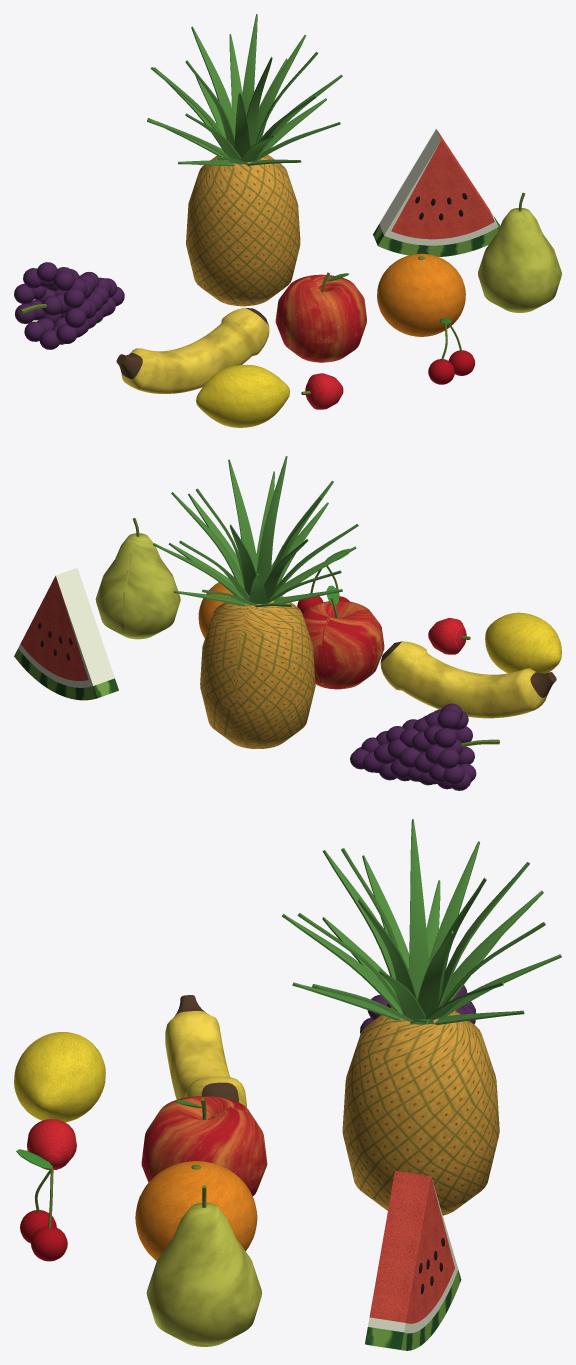
The model's file is fruit-set.glb.
The picture shows the model from 3 angles, top to bottom: view 1: azimuth 30°, elevation 25°; view 2: azimuth 150°, elevation 25°; view 3: azimuth 270°, elevation 25°; orthographic projection. The views are drawn at different scales.
Parts seen in each view (by area): view 1: Pineapple, Watermelon_Slice, Banana, Apple, Grapes, Pear, Orange, Lemon, Cherries, Strawberry; view 2: Pineapple, Watermelon_Slice, Banana, Grapes, Pear, Apple, Lemon, Strawberry, Orange, Cherries; view 3: Pineapple, Pear, Watermelon_Slice, Apple, Orange, Lemon, Banana, Cherries, Strawberry.
Boxes of the visible parts, bbox=[...] form: Pineapple: bbox=[147, 14, 342, 306]; Watermelon_Slice: bbox=[373, 129, 499, 256]; Banana: bbox=[116, 308, 269, 393]; Apple: bbox=[275, 272, 366, 362]; Grapes: bbox=[14, 262, 124, 349]; Pear: bbox=[478, 192, 561, 312]; Orange: bbox=[377, 253, 465, 336]; Lemon: bbox=[196, 364, 289, 427]; Cherries: bbox=[428, 318, 475, 384]; Strawberry: bbox=[301, 373, 343, 409]; Pineapple: bbox=[153, 456, 358, 748]; Watermelon_Slice: bbox=[14, 568, 118, 700]; Banana: bbox=[380, 641, 556, 718]; Grapes: bbox=[350, 703, 499, 790]; Pear: bbox=[95, 518, 180, 639]; Apple: bbox=[302, 585, 384, 689]; Lemon: bbox=[485, 612, 561, 673]; Strawberry: bbox=[428, 618, 470, 654]; Orange: bbox=[198, 576, 234, 638]; Cherries: bbox=[297, 548, 349, 613]; Pineapple: bbox=[281, 819, 561, 1215]; Pear: bbox=[146, 1185, 261, 1346]; Watermelon_Slice: bbox=[365, 1170, 461, 1350]; Apple: bbox=[141, 1096, 267, 1196]; Orange: bbox=[135, 1161, 257, 1260]; Lemon: bbox=[14, 1032, 105, 1122]; Banana: bbox=[165, 995, 246, 1107]; Cherries: bbox=[16, 1149, 67, 1261]; Strawberry: bbox=[27, 1119, 76, 1169].
Size of the model in its own units: 0.4741 by 0.2449 by 0.3414.
Materials: 17 (9 with a texture image).
